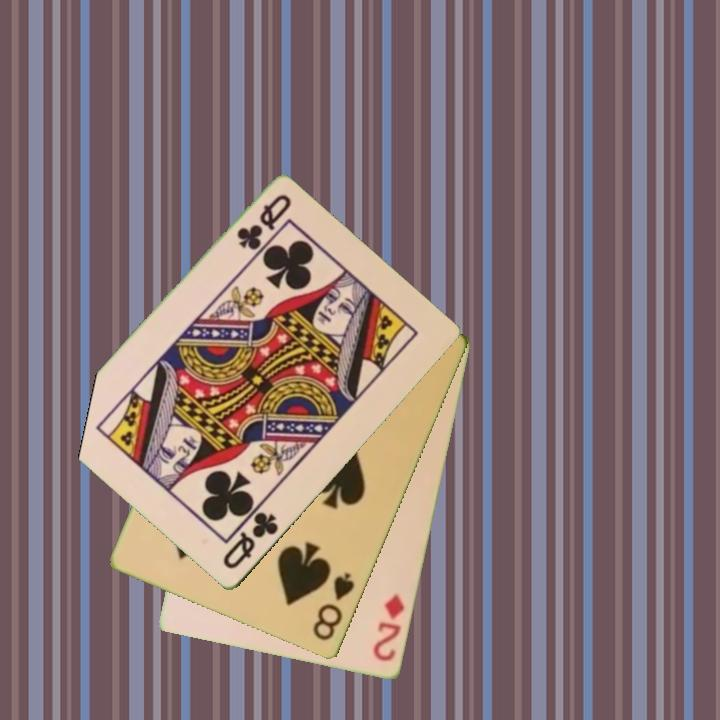2d: (370, 591, 408, 665)
8s: (309, 569, 358, 644)
Qc: (219, 508, 281, 573), (233, 191, 295, 253)
